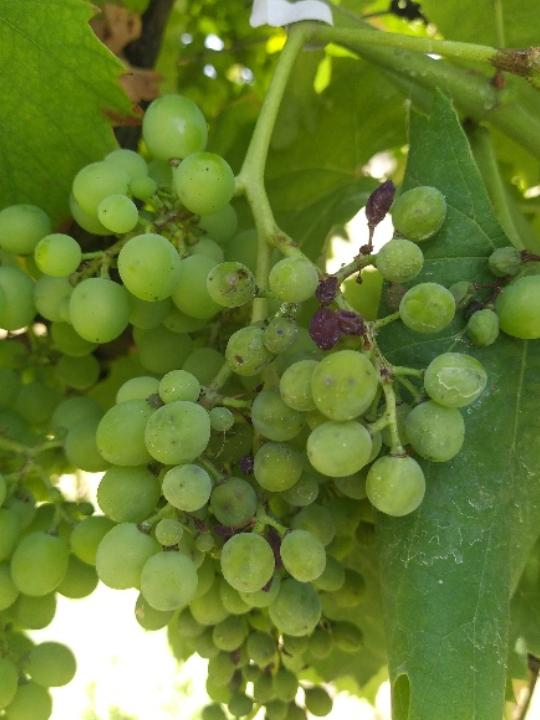grape: (29, 94, 491, 642)
